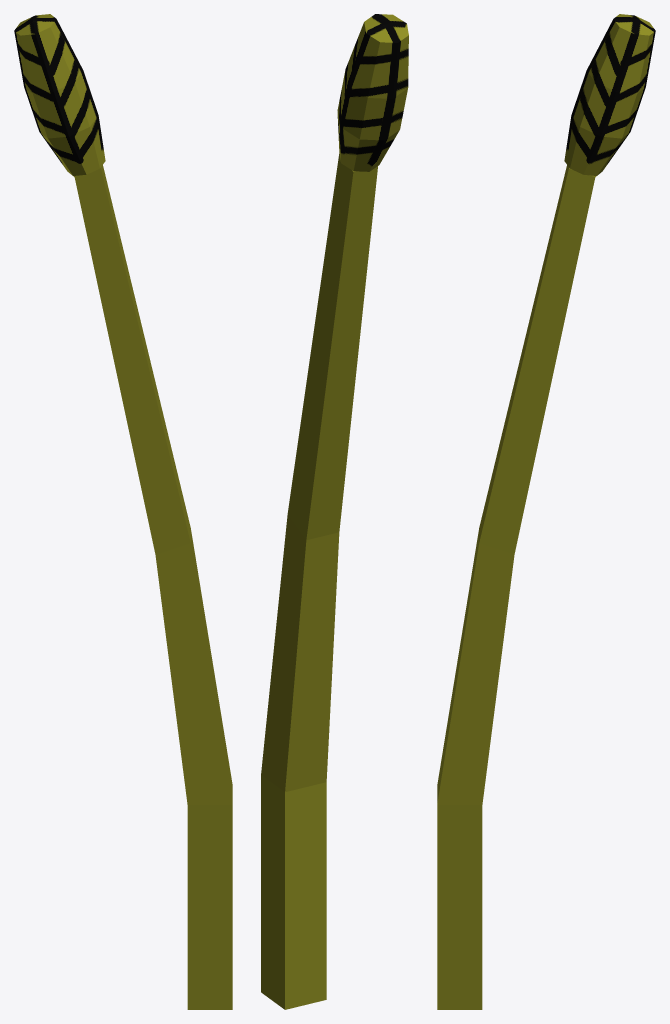
Rendered from Wheat.fbx.
3 views of the same model, side by side, from view 1: azimuth 90°, elevation 25°; view 2: azimuth 210°, elevation 25°; view 3: azimuth 270°, elevation 25° (orthographic). The views are drawn at different scales.
Visible parts, largest first — view 1: Cube; view 2: Cube; view 3: Cube.
Boxes of the visible parts, x1,y1,x2,y2 form: Cube: (14, 14, 232, 1009); Cube: (261, 14, 408, 1009); Cube: (437, 14, 655, 1009).
Bounding box in the file's own units: 112 × 1954 × 394.
1 material, 1 textured.
